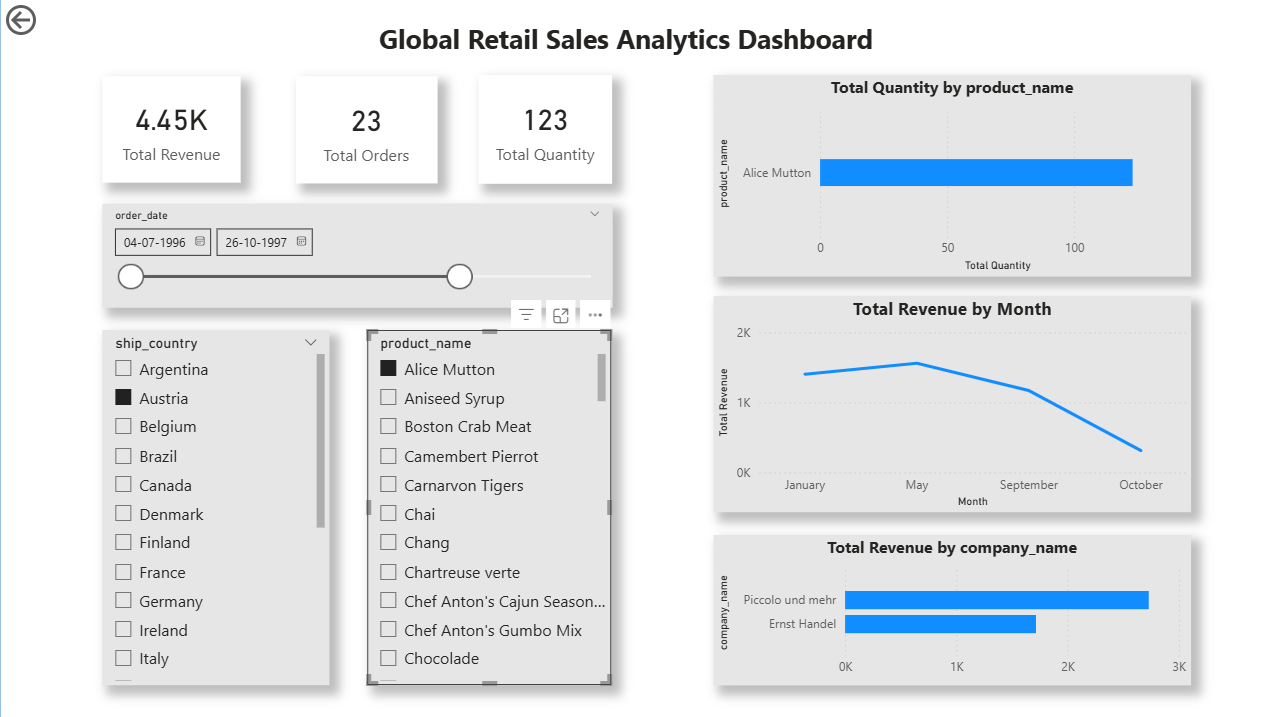

What the dashboard file says about the page in this screenshot:
{"tool":"powerbi","page":{"name":"Page 1","canvas":[1280,720],"ordinal":0},"visuals":[{"type":"lineChart","fields":{"Category":["public orders.order_date.Variation.Date Hierarchy.Year","public orders.order_date.Variation.Date Hierarchy.Month"],"Y":["public customers.Total Revenue"]},"box":[712.5,296.2,477.5,216.2],"z":1},{"type":"actionButton","box":[0,0,100,40],"z":2},{"type":"clusteredBarChart","fields":{"Category":["public customers.company_name"],"Y":["public customers.Total Revenue"]},"box":[712.5,535,477.5,150],"z":3},{"type":"clusteredBarChart","fields":{"Category":["public products.product_name"],"Y":["public customers.Total Quantity"]},"box":[712.5,75,477.5,201.2],"z":4},{"type":"slicer","fields":{"Values":["public orders.ship_country"]},"box":[101.2,330,227.5,355],"z":5},{"type":"slicer","fields":{"Values":["public orders.order_date"]},"box":[101.2,203.8,510,103.8],"z":6},{"type":"slicer","fields":{"Values":["public products.product_name"]},"box":[366.2,330,243.8,355],"z":7},{"type":"card","fields":{"Values":["public customers.Total Orders"]},"box":[295,76.2,141.2,107.5],"z":8},{"type":"card","fields":{"Values":["public customers.Total Quantity"]},"box":[477.5,75,133.8,108.8],"z":9},{"type":"card","fields":{"Values":["public customers.Total Revenue"]},"box":[101.2,76.2,138.8,106.2],"z":10},{"type":"textbox","box":[328.8,15,592.5,50],"z":11}]}

Visuals, with their boxes in screenshot pixels (x1, y1, x2, y2):
lineChart - public orders.order_date.Variation.Date Hierarchy.Year x public orders.order_date.Variation.Date Hierarchy.Month: (717, 269, 1204, 489)
actionButton: (0, 0, 92, 8)
clusteredBarChart - public customers.company_name x public customers.Total Revenue: (717, 512, 1204, 665)
clusteredBarChart - public products.product_name x public customers.Total Quantity: (717, 43, 1204, 248)
slicer - public orders.ship_country: (93, 303, 325, 665)
slicer - public orders.order_date: (93, 175, 613, 281)
slicer - public products.product_name: (364, 303, 612, 665)
card - public customers.Total Orders: (291, 44, 435, 154)
card - public customers.Total Quantity: (477, 43, 614, 154)
card - public customers.Total Revenue: (93, 44, 235, 153)
textbox: (325, 0, 930, 33)
